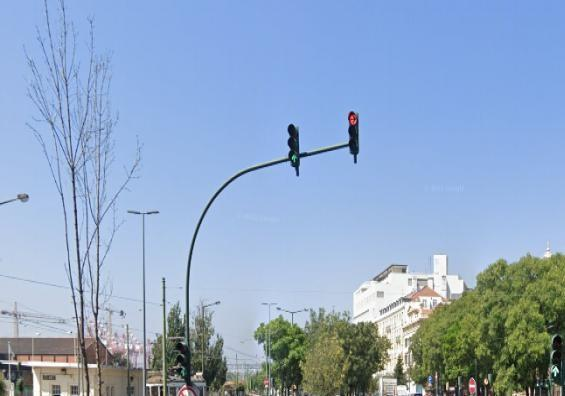green_light: (549, 334, 563, 383), (176, 342, 189, 378), (288, 124, 299, 166)
red_light: (348, 111, 359, 153)
